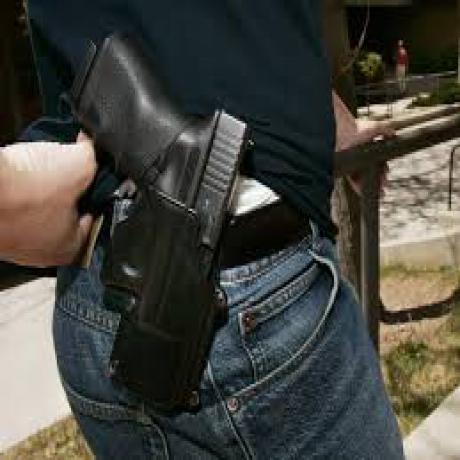Guns: (71, 30, 231, 415)
